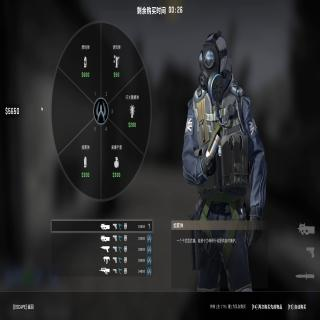CT-Head: (197, 30, 228, 99)
